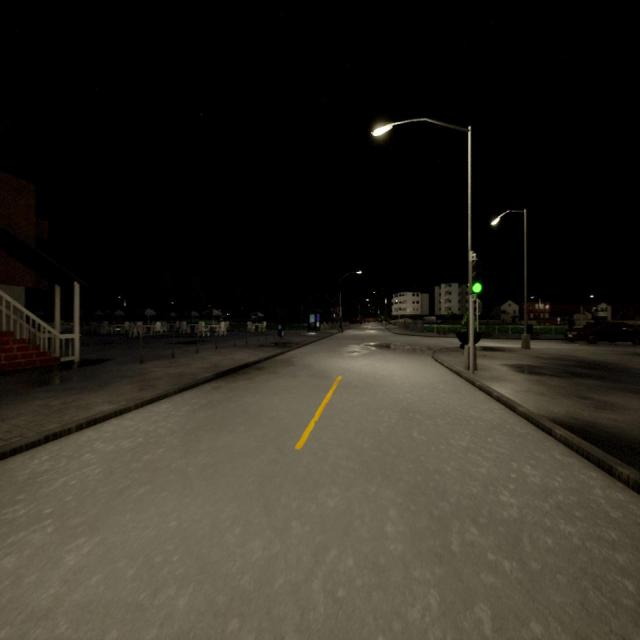Pedestrian: (337, 314, 343, 334)
Vehicle: (564, 321, 640, 344)
traffic_light: (471, 260, 483, 296)
